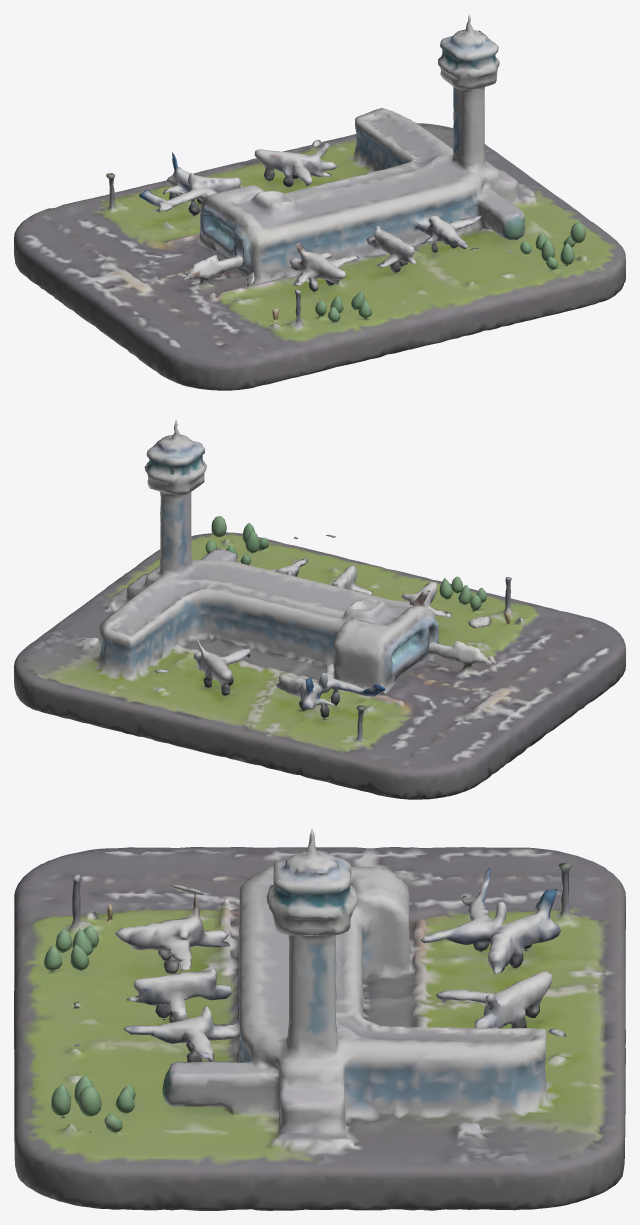
File: haneda.glb
3 views of the same model, one above another, from view 1: azimuth 30°, elevation 25°; view 2: azimuth 150°, elevation 25°; view 3: azimuth 270°, elevation 25° (orthographic). The views are drawn at different scales.
Visible parts, largest first — view 1: geometry_0; view 2: geometry_0; view 3: geometry_0.
Part boxes in pixels (x1,y1,x2,y2): geometry_0: (14,14,625,390); geometry_0: (14,419,625,799); geometry_0: (14,828,625,1210).
Size of the model in its own units: 0.9799 by 0.4564 by 0.7771.
